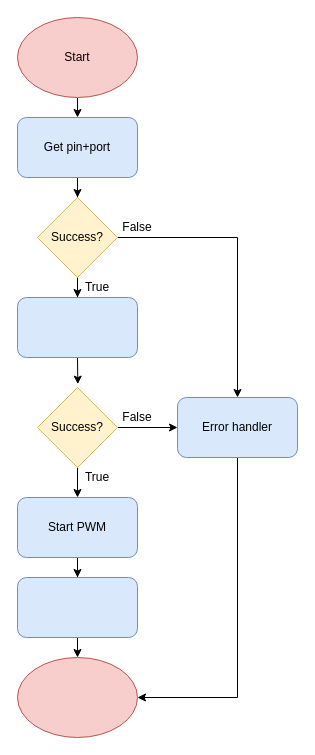
This 315x755 diagram has some shape labels left out. The shapes that lost their labels are listed below. From the top down, each one's centre as x and y in pixels, then its label:
At (x=77, y=327): "Init".
At (x=77, y=607): "Set response".
At (x=77, y=697): "Stop".
